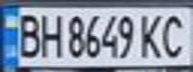4: (100, 11, 121, 58)
6: (81, 11, 103, 60)
8: (63, 11, 87, 58)
9: (115, 11, 139, 60)
B: (12, 10, 45, 58)
C: (157, 10, 193, 60)
H: (36, 10, 63, 58)
K: (136, 11, 166, 60)
